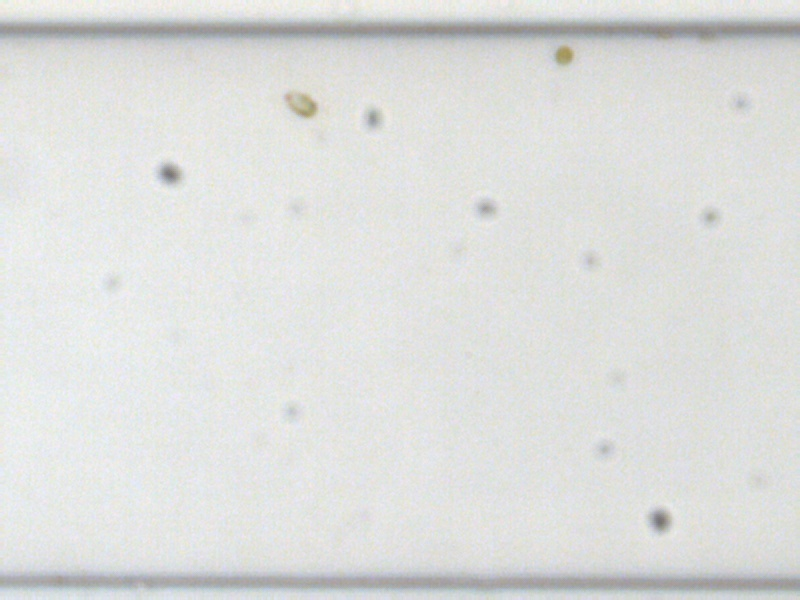Chlorella: (554, 44, 573, 64)
Dunaliella salina: (279, 89, 319, 118)
